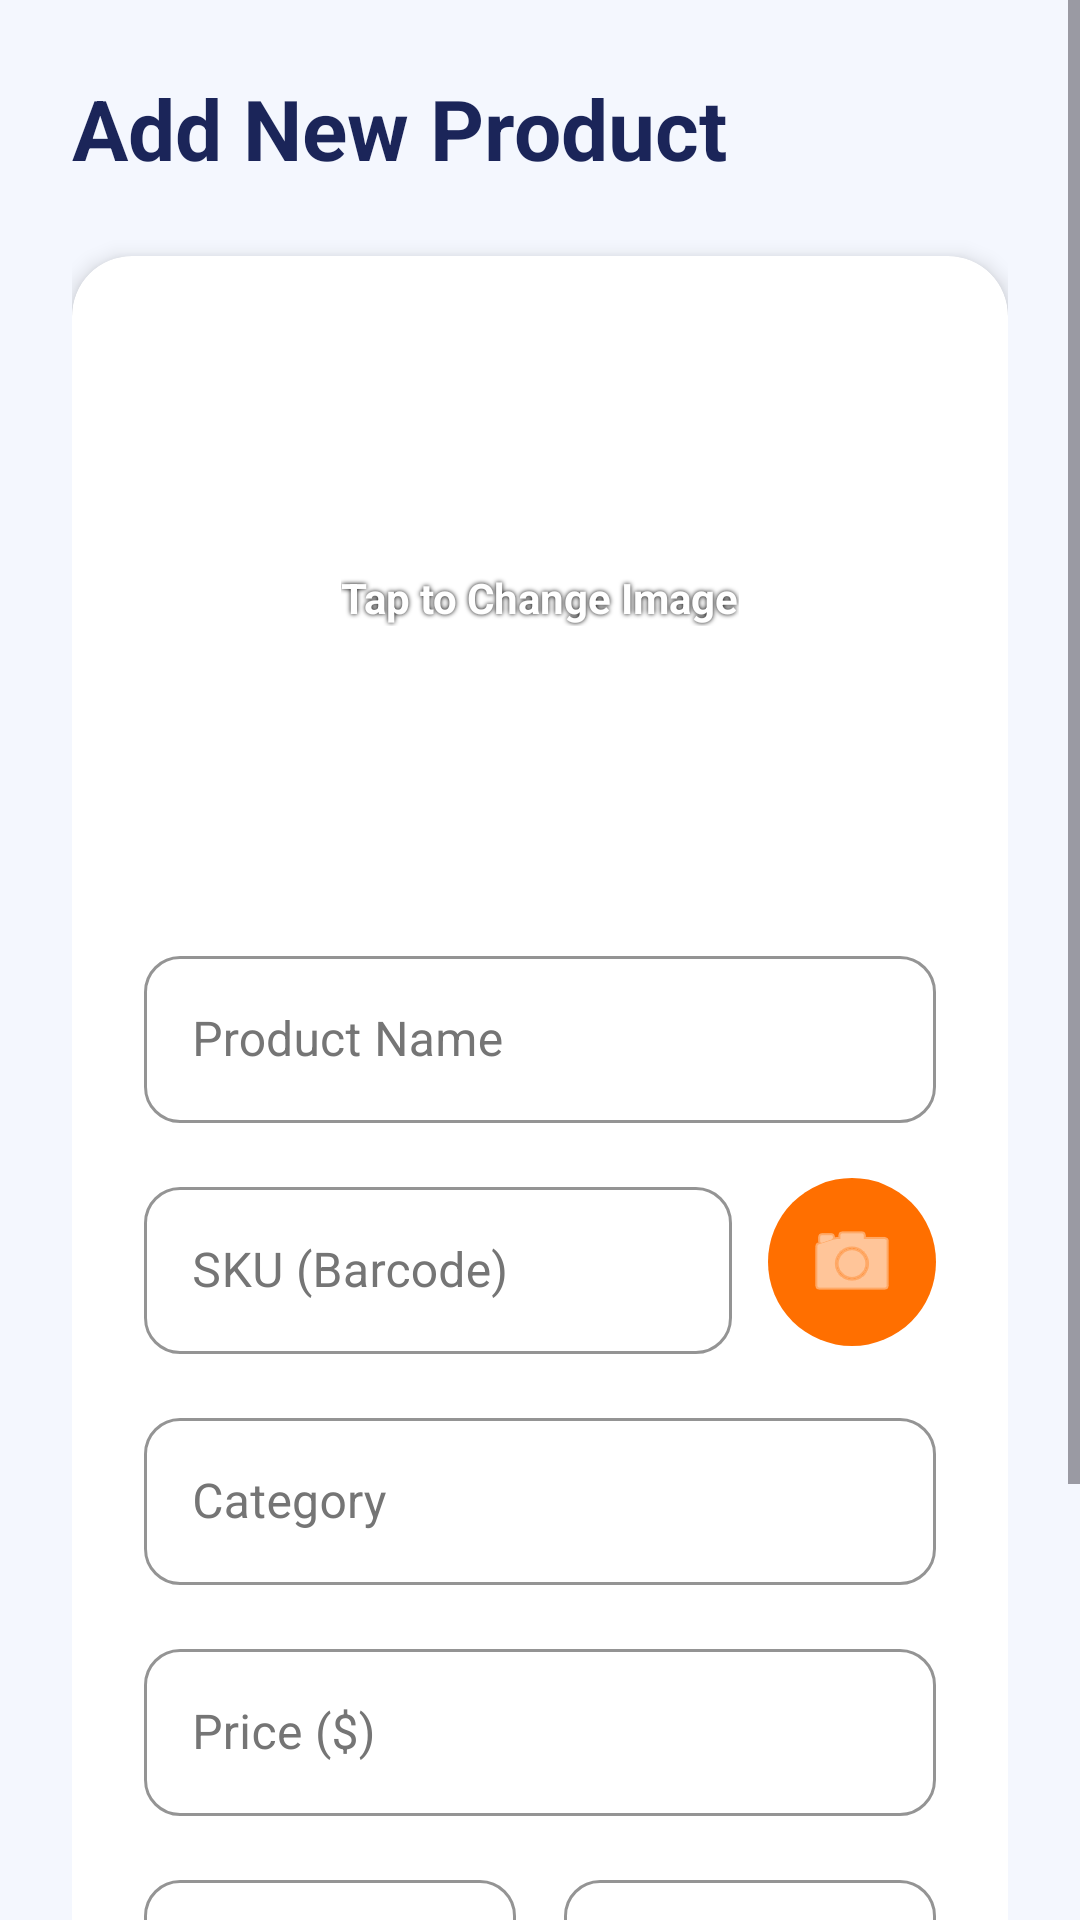

Point at icon controls on the screen. Image size 1080*1920, points as point (x, y).
camera: point (852, 1262)
